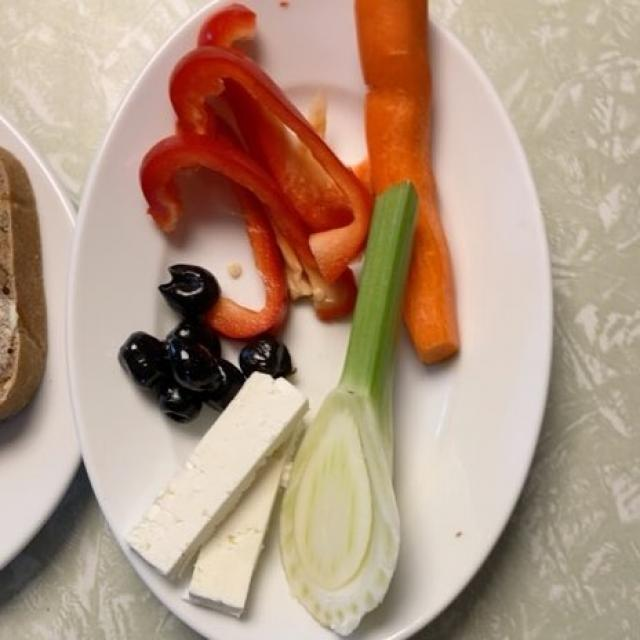bell-pepper: (144, 19, 368, 337)
black-olives: (118, 259, 299, 406)
cake: (273, 184, 428, 629)
carrot: (350, 0, 462, 347)
cheese: (107, 377, 319, 613)
